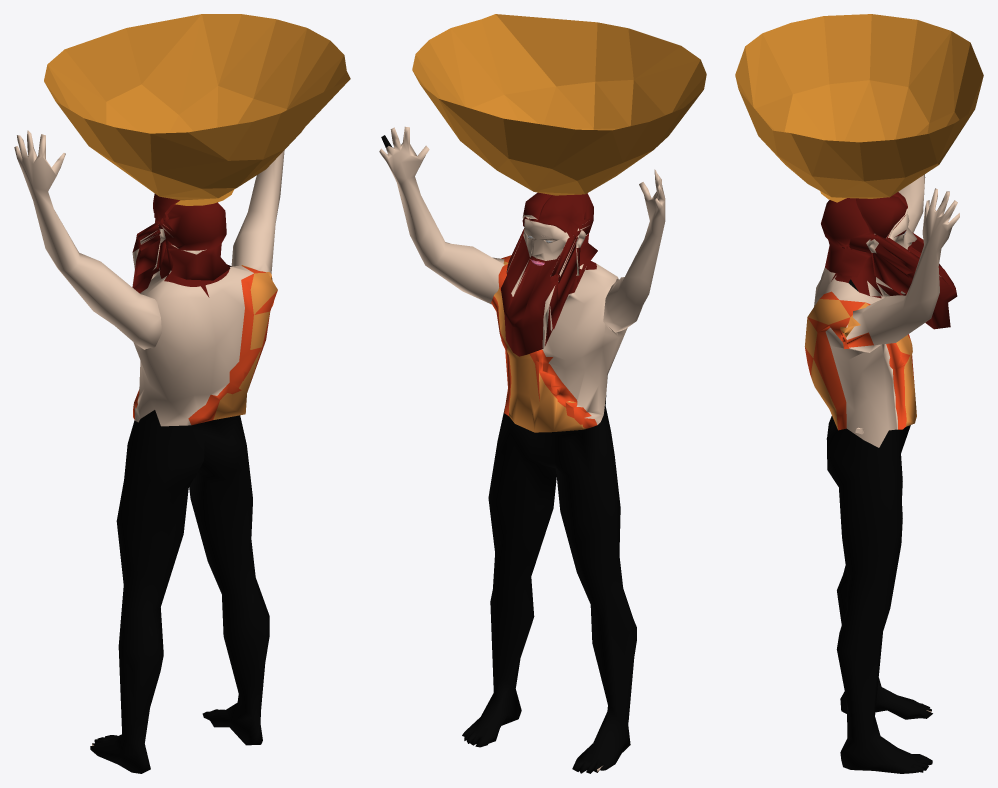
The model's file is vasudev.fbx.
3 views of the same model, side by side, from view 1: azimuth 30°, elevation 25°; view 2: azimuth 150°, elevation 25°; view 3: azimuth 270°, elevation 25° (orthographic). The views are drawn at different scales.
Visible parts, largest first — view 1: vasudevg1:Body; view 2: vasudevg1:Body; view 3: vasudevg1:Body.
Boxes of the visible parts, <box> form: vasudevg1:Body: <box>14,14,350,773</box>; vasudevg1:Body: <box>379,14,706,773</box>; vasudevg1:Body: <box>735,14,983,773</box>.
Bounding box in the file's own units: 10.57 × 24.9 × 8.44.
